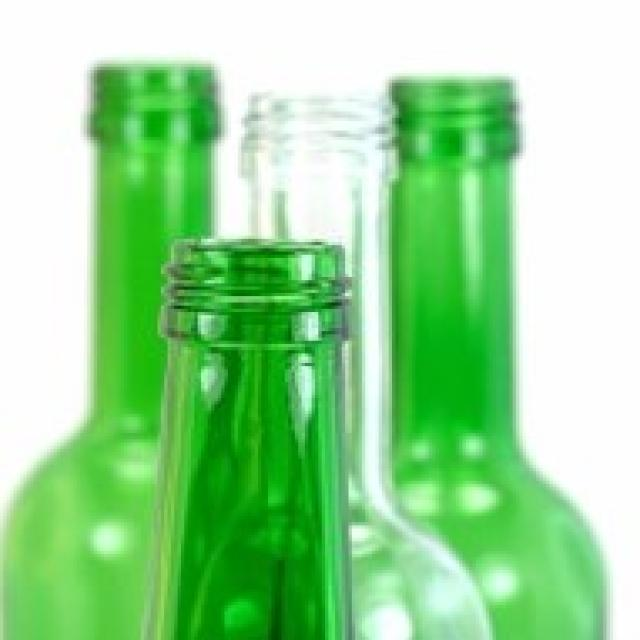electronic: (243, 85, 497, 640), (376, 71, 610, 640), (2, 53, 225, 640), (154, 231, 355, 640)
